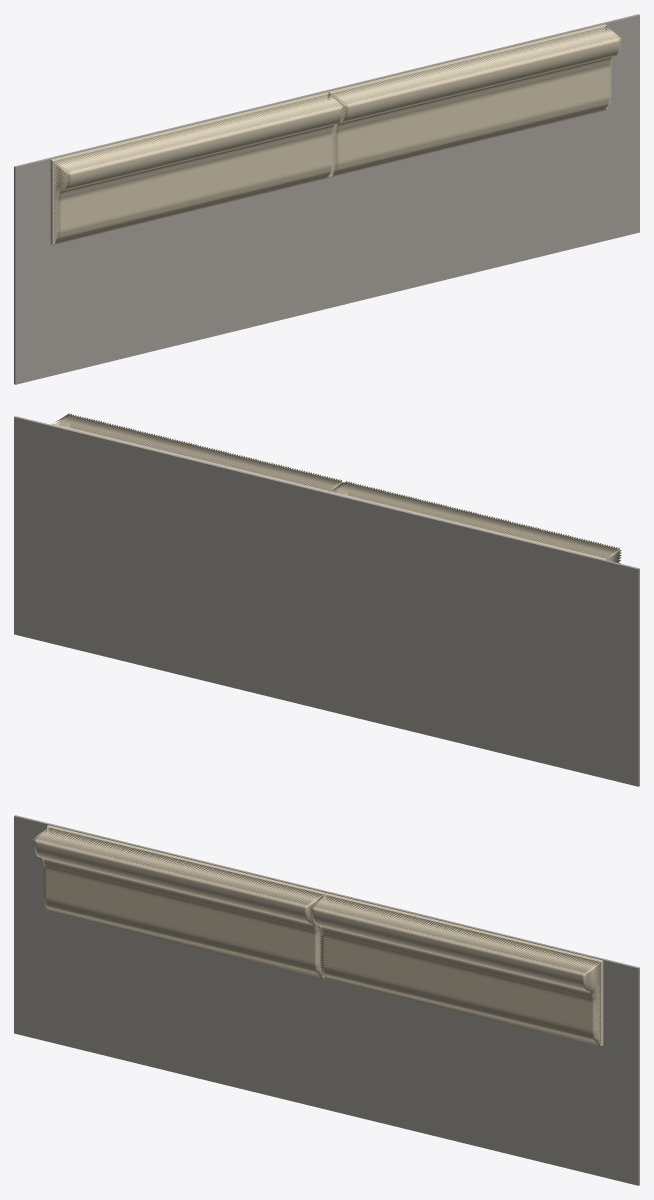
Rendered from terilgan.glb.
3 views of the same model, one above another, from view 1: azimuth 30°, elevation 25°; view 2: azimuth 150°, elevation 25°; view 3: azimuth 330°, elevation 25° (orthographic).
Visible parts, largest first — view 1: Devor, t0, t1; view 2: Devor, t0, t1; view 3: Devor, t1, t0.
Boxes of the visible parts, bbox=[...] form: Devor: bbox=[14, 14, 639, 384]; t0: bbox=[50, 92, 343, 245]; t1: bbox=[328, 24, 621, 177]; Devor: bbox=[14, 416, 639, 786]; t0: bbox=[328, 481, 621, 563]; t1: bbox=[51, 413, 343, 492]; Devor: bbox=[14, 815, 639, 1185]; t1: bbox=[310, 893, 603, 1046]; t0: bbox=[32, 825, 325, 978].
Size of the model in its own units: 2.71 by 0.9 by 0.1371.
